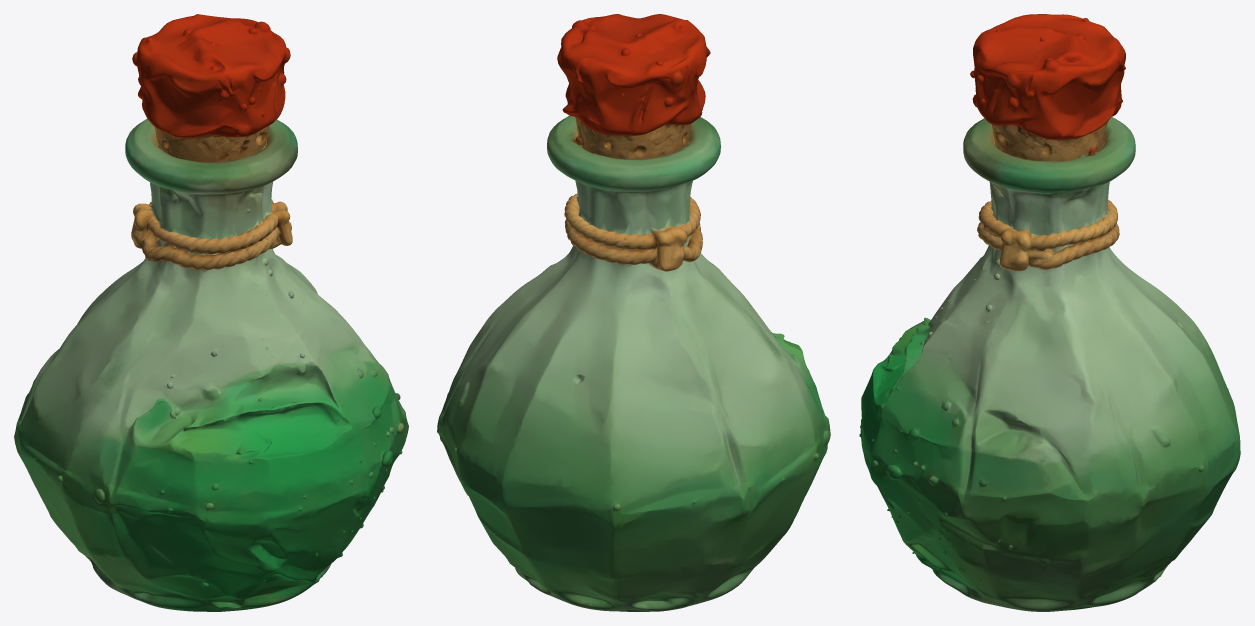
Rendered from potion bottle 3d model.glb.
3 renders of one model, left to right at view 1: azimuth 30°, elevation 25°; view 2: azimuth 150°, elevation 25°; view 3: azimuth 270°, elevation 25°, orthographic.
Visible parts, largest first — view 1: tripo_node_9a2019fc-3ce8-4659-98a3-cc0f2ee72b08; view 2: tripo_node_9a2019fc-3ce8-4659-98a3-cc0f2ee72b08; view 3: tripo_node_9a2019fc-3ce8-4659-98a3-cc0f2ee72b08.
Part boxes in pixels (x1,y1,x2,y2): tripo_node_9a2019fc-3ce8-4659-98a3-cc0f2ee72b08: (14, 14, 408, 611); tripo_node_9a2019fc-3ce8-4659-98a3-cc0f2ee72b08: (437, 14, 830, 611); tripo_node_9a2019fc-3ce8-4659-98a3-cc0f2ee72b08: (859, 14, 1240, 611).
Bounding box in the file's own units: 0.6459 × 0.9776 × 0.6371.
Materials: 1 (1 with a texture image).
